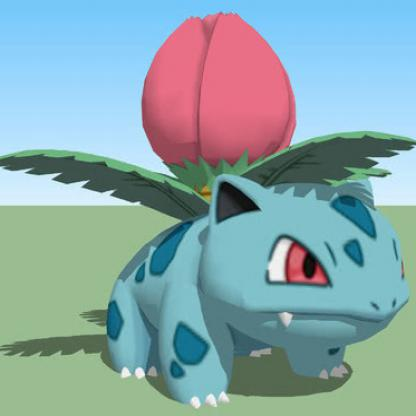Ivysaur: (1, 1, 416, 408)
